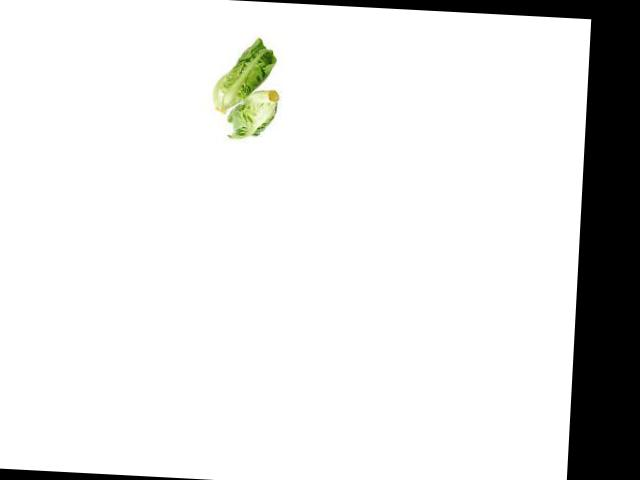lettuce: (158, 17, 322, 149)
